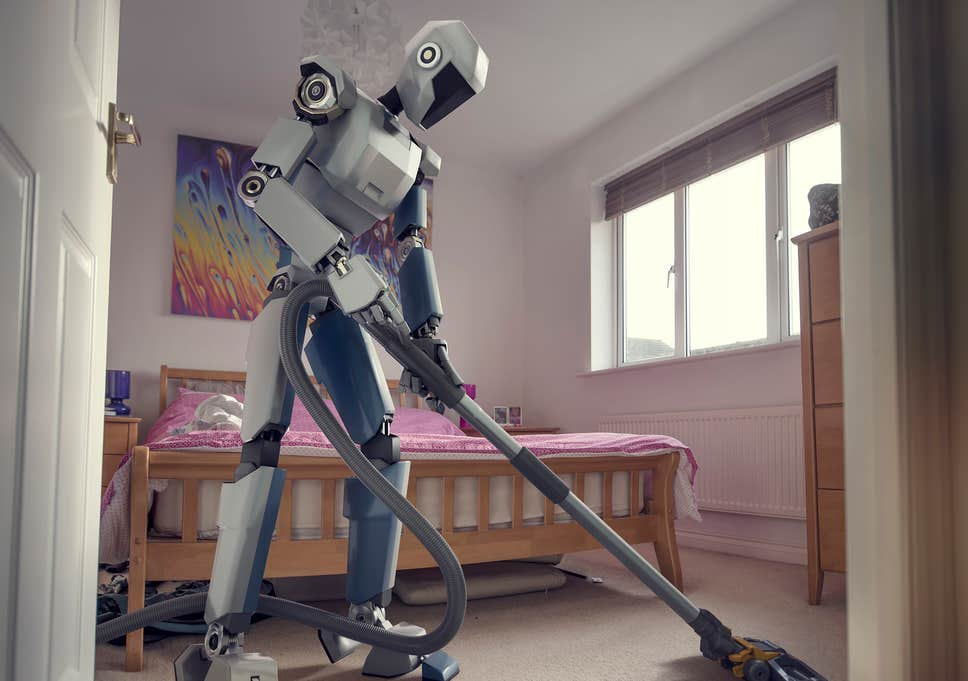person-like: (170, 13, 494, 681)
